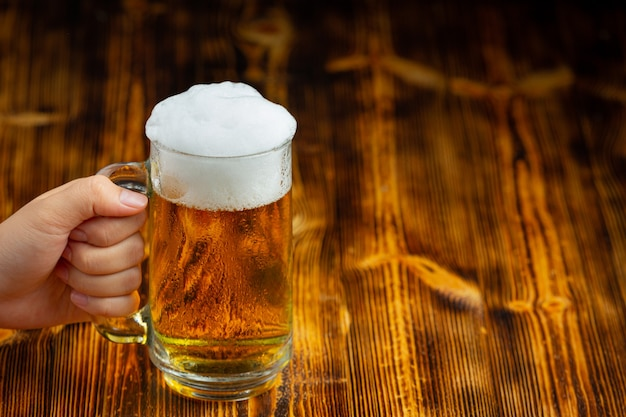alcohol: (86, 89, 296, 404)
